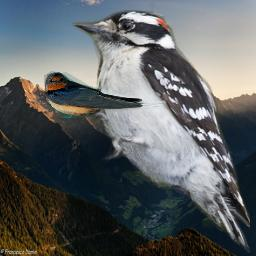Swallow: (42, 70, 163, 118)
Woodpecker: (72, 10, 250, 253)
